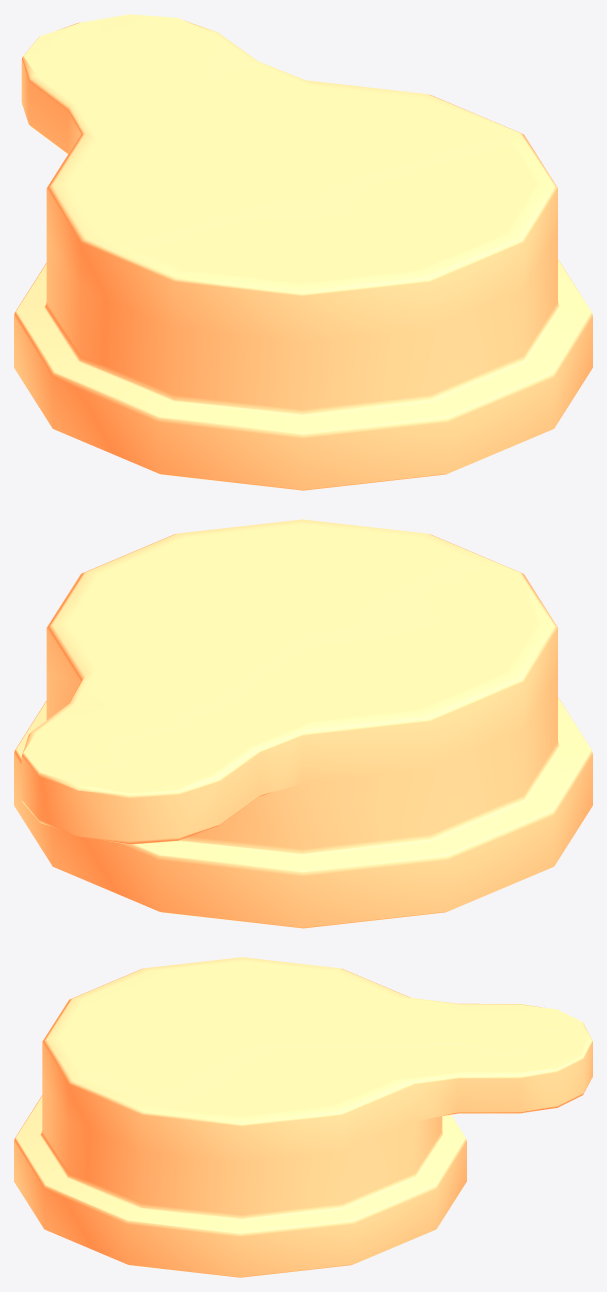
Rendered from SM_MastConnect01_03.fbx.
The picture shows the model from 3 angles, top to bottom: view 1: azimuth 30°, elevation 25°; view 2: azimuth 150°, elevation 25°; view 3: azimuth 270°, elevation 25°; orthographic projection. The views are drawn at different scales.
Parts seen in each view (by area): view 1: SM_MastConnect01_03; view 2: SM_MastConnect01_03; view 3: SM_MastConnect01_03.
Part boxes in pixels (bbox=[...]): SM_MastConnect01_03: bbox=[14, 14, 592, 490]; SM_MastConnect01_03: bbox=[14, 519, 592, 928]; SM_MastConnect01_03: bbox=[14, 957, 592, 1277].
Size of the model in its own units: 69.89 by 89.36 by 25.43.
